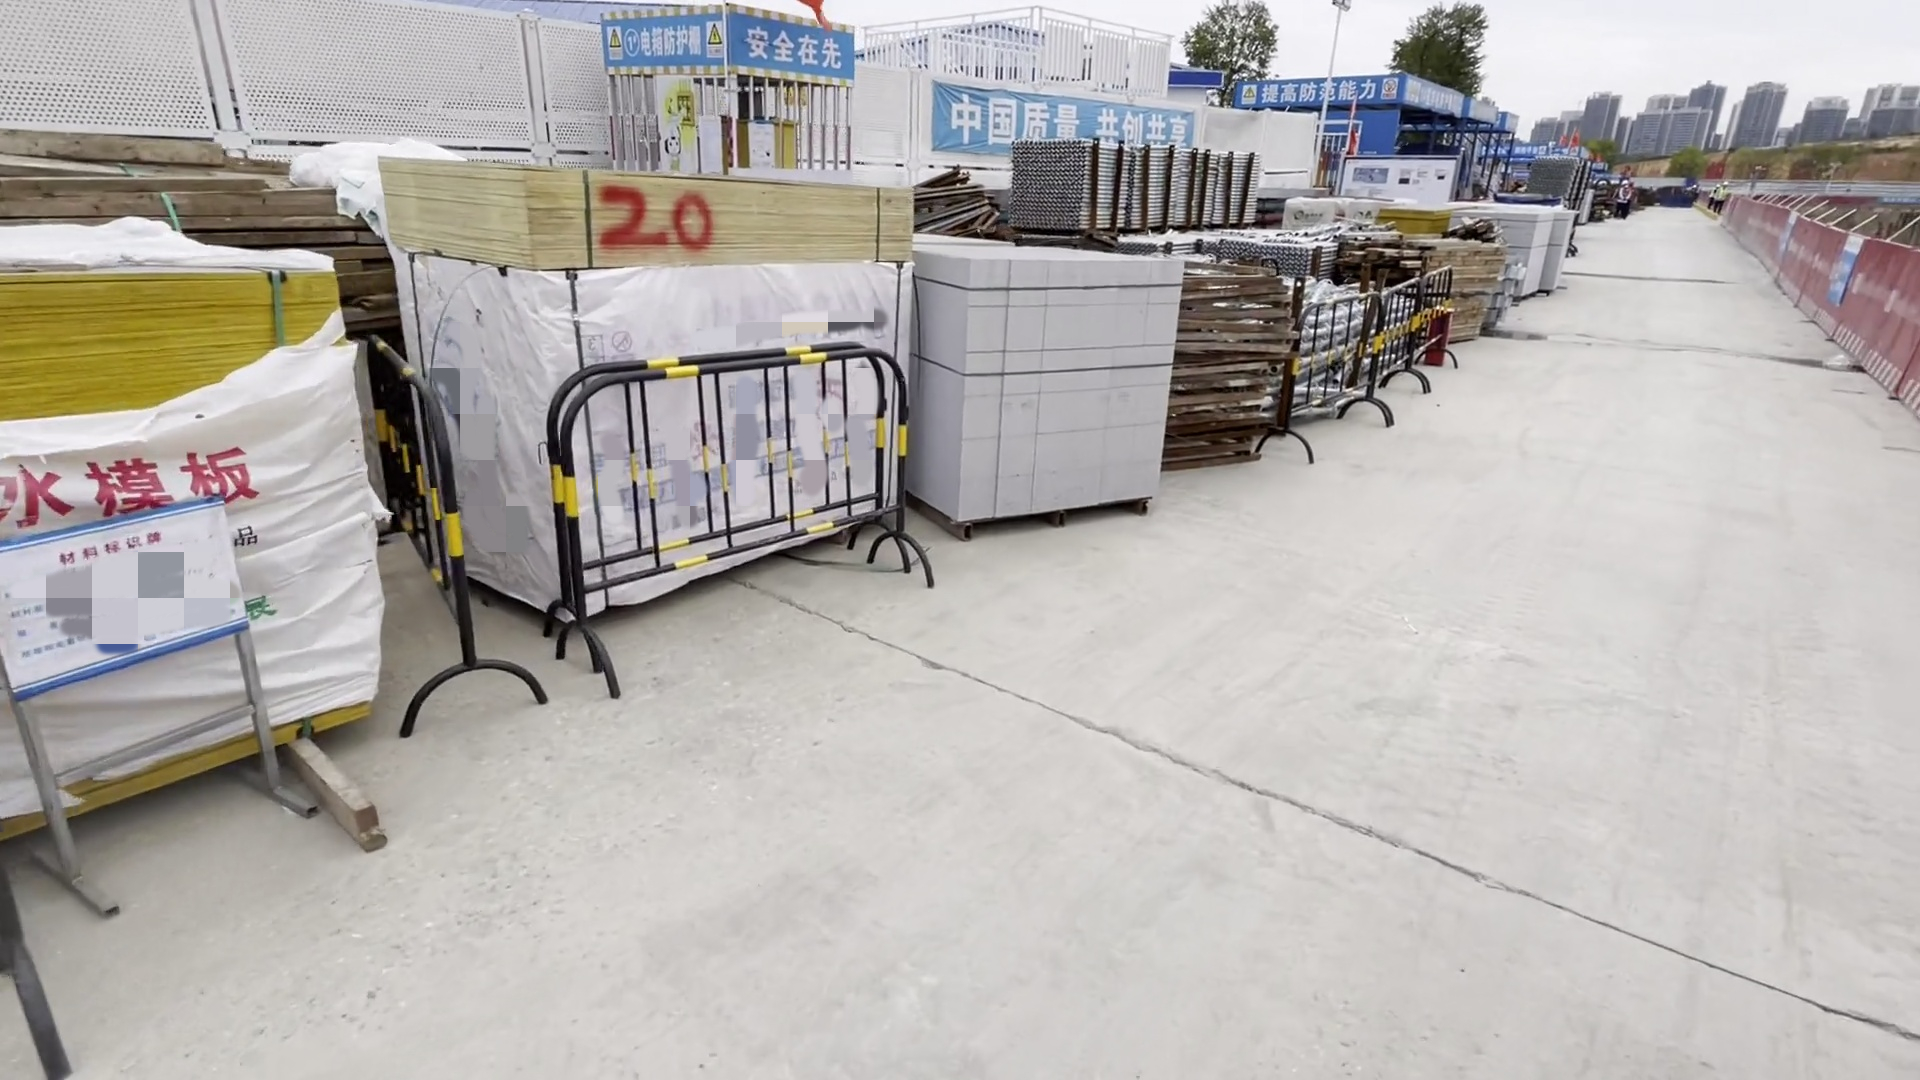board: (1, 241, 396, 800), (384, 157, 901, 582)
brick: (895, 227, 1174, 555), (1461, 202, 1585, 291)
fence: (1716, 196, 1920, 397)
scaffold: (1033, 142, 1280, 236)
slogan: (931, 80, 1187, 156), (585, 9, 740, 65), (720, 22, 855, 74), (1240, 79, 1403, 105)
wood: (1422, 229, 1497, 349)
